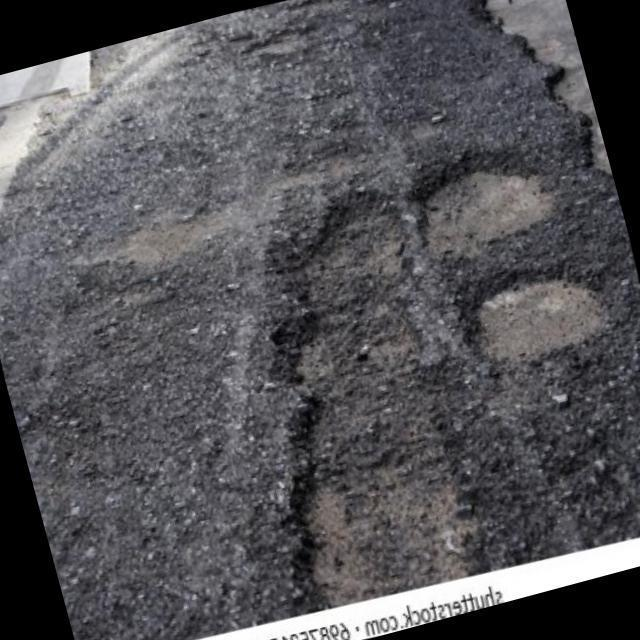Pothole: (268, 195, 482, 609), (415, 155, 555, 257), (461, 272, 611, 367)
